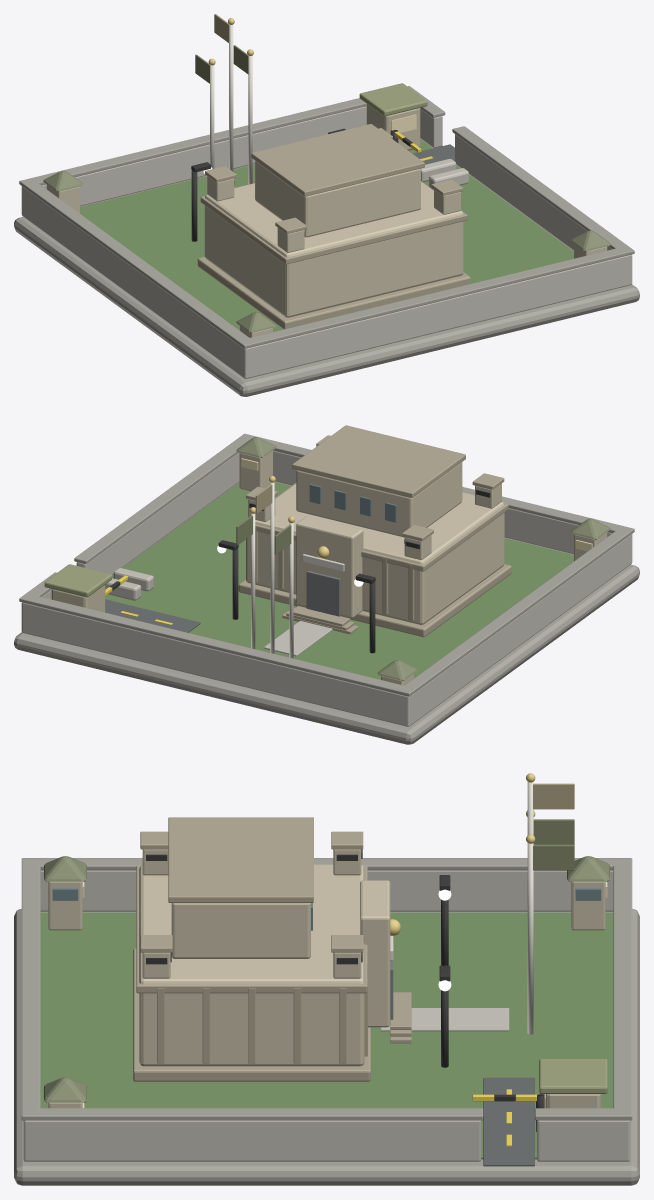
Rendered from goldvault_8.glb.
The picture shows the model from 3 angles, top to bottom: view 1: azimuth 30°, elevation 25°; view 2: azimuth 150°, elevation 25°; view 3: azimuth 270°, elevation 25°; orthographic projection. The views are drawn at different scales.
Parts seen in each view (by area): view 1: Cube.016, Cube.001, Cube, Cube.072, Cube.037, Cube.070, Cube.036, Cube.074, Cube.073, Cube.078, Cube.075, Cube.015 (+10 smaller); view 2: Cube.001, Cube.016, Cube, Cube.070, Cube.037, Cube.074, Cube.036, Cube.078, Cube.030, Cube.071, Cube.075, Cube.072 (+23 smaller); view 3: Cube.001, Cube.016, Cube, Cube.078, Cube.037, Cube.074, Cube.036, Cube.079, Cube.073, Cube.071, Cube.015, Cube.002 (+31 smaller).
Boxes of the visible parts, x1,y1,x2,y2 form: Cube.016: (204,181,463,317); Cube.001: (80,139,573,331); Cube: (14,138,639,396); Cube.072: (240,254,632,378); Cube.037: (251,124,424,196); Cube.070: (21,106,366,217); Cube.036: (255,160,420,237); Cube.074: (24,188,241,376); Cube.073: (238,246,634,348); Cube.078: (455,134,611,250); Cube.075: (22,180,252,346); Cube.015: (197,257,470,329); Cube.001: (105,482,573,679); Cube.016: (246,483,504,624); Cube: (14,481,639,744); Cube.070: (21,602,413,726); Cube.037: (292,425,465,497); Cube.074: (412,537,627,724); Cube.036: (296,462,462,537); Cube.078: (76,453,239,574); Cube.030: (296,516,363,617); Cube.071: (19,596,415,696); Cube.075: (401,530,631,693); Cube.072: (273,450,632,565); Cube.001: (40,912,613,1159); Cube.016: (139,864,364,1066); Cube: (14,909,639,1185); Cube.078: (33,1120,481,1161); Cube.037: (168,817,313,902); Cube.074: (40,870,613,911); Cube.036: (171,903,310,958); Cube.079: (30,1108,483,1120); Cube.073: (21,858,40,1120); Cube.071: (613,858,632,1120); Cube.015: (133,948,370,1081); Cube.002: (483,1077,534,1166).
Size of the model in its own units: 2.92 by 1.39 by 2.92.
